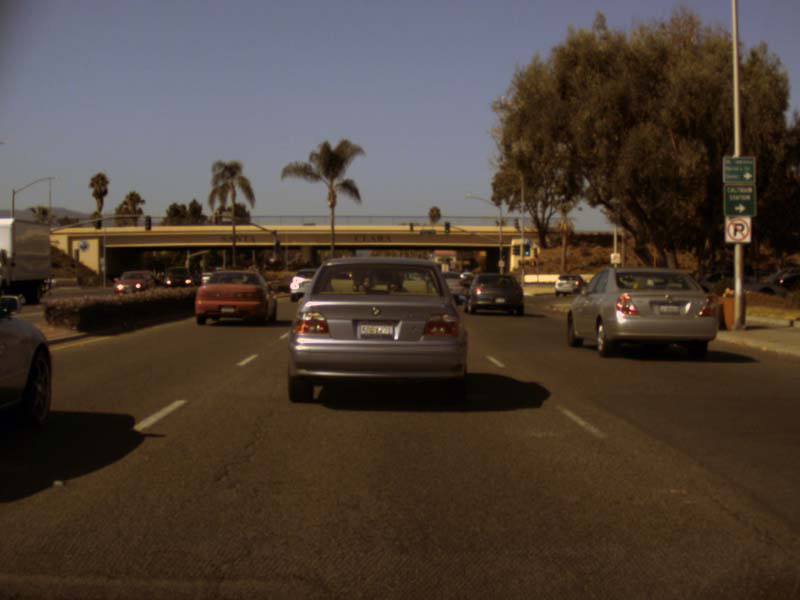Green: (522, 243, 528, 255), (444, 221, 449, 233), (501, 250, 505, 260)
